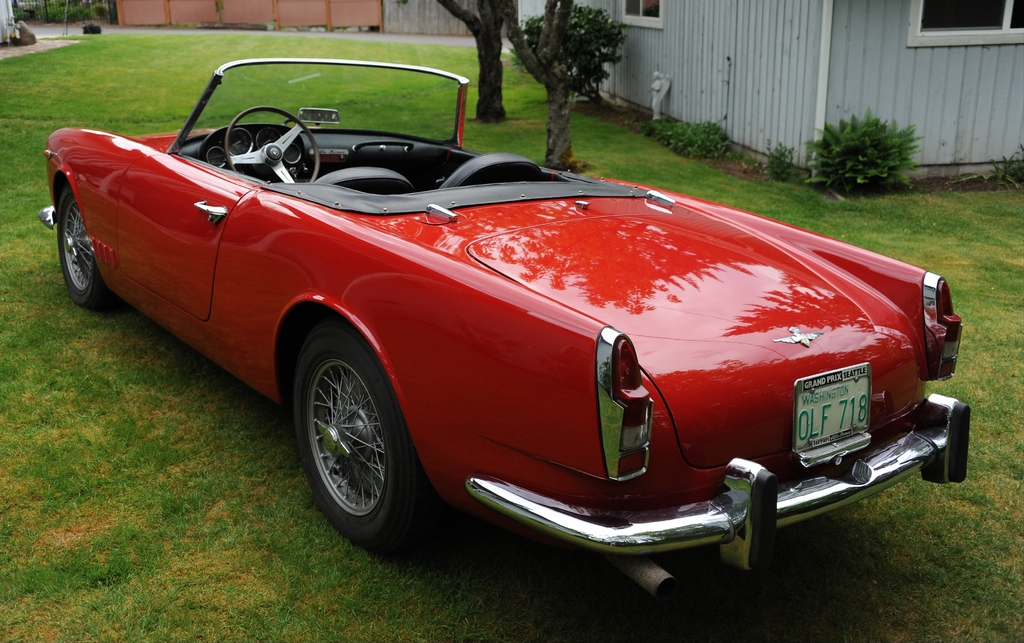Car: (37, 57, 973, 596)
